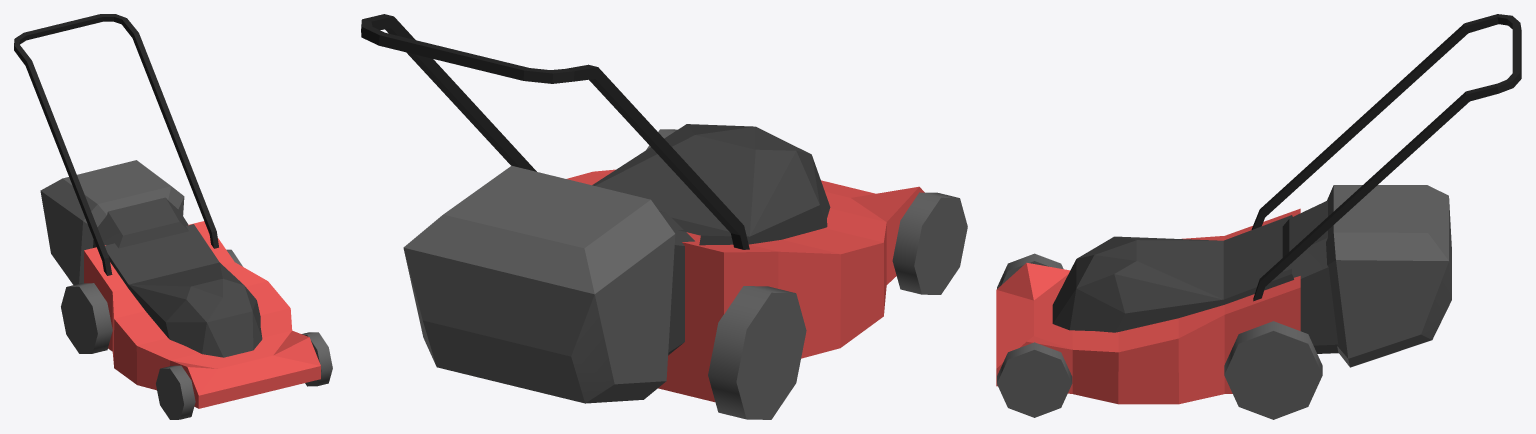
File: lawn_mower_001.glb
3 renders of one model, left to right at view 1: azimuth 30°, elevation 25°; view 2: azimuth 150°, elevation 25°; view 3: azimuth 270°, elevation 25°, orthographic. The views are drawn at different scales.
Parts seen in each view (by area): view 1: lawn_mower_001; view 2: lawn_mower_001; view 3: lawn_mower_001.
Part boxes in pixels (x1,y1,x2,y2): lawn_mower_001: (14,14,332,419); lawn_mower_001: (361,14,967,419); lawn_mower_001: (996,14,1521,419).
Bounding box in the file's own units: 0.6561 × 0.9935 × 1.46.
1 material, 1 textured.
